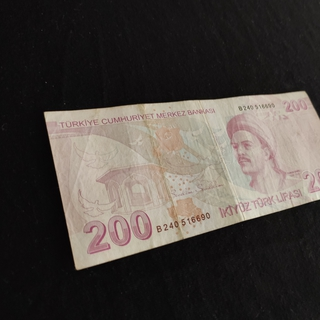200TLBack: (43, 90, 320, 271)
